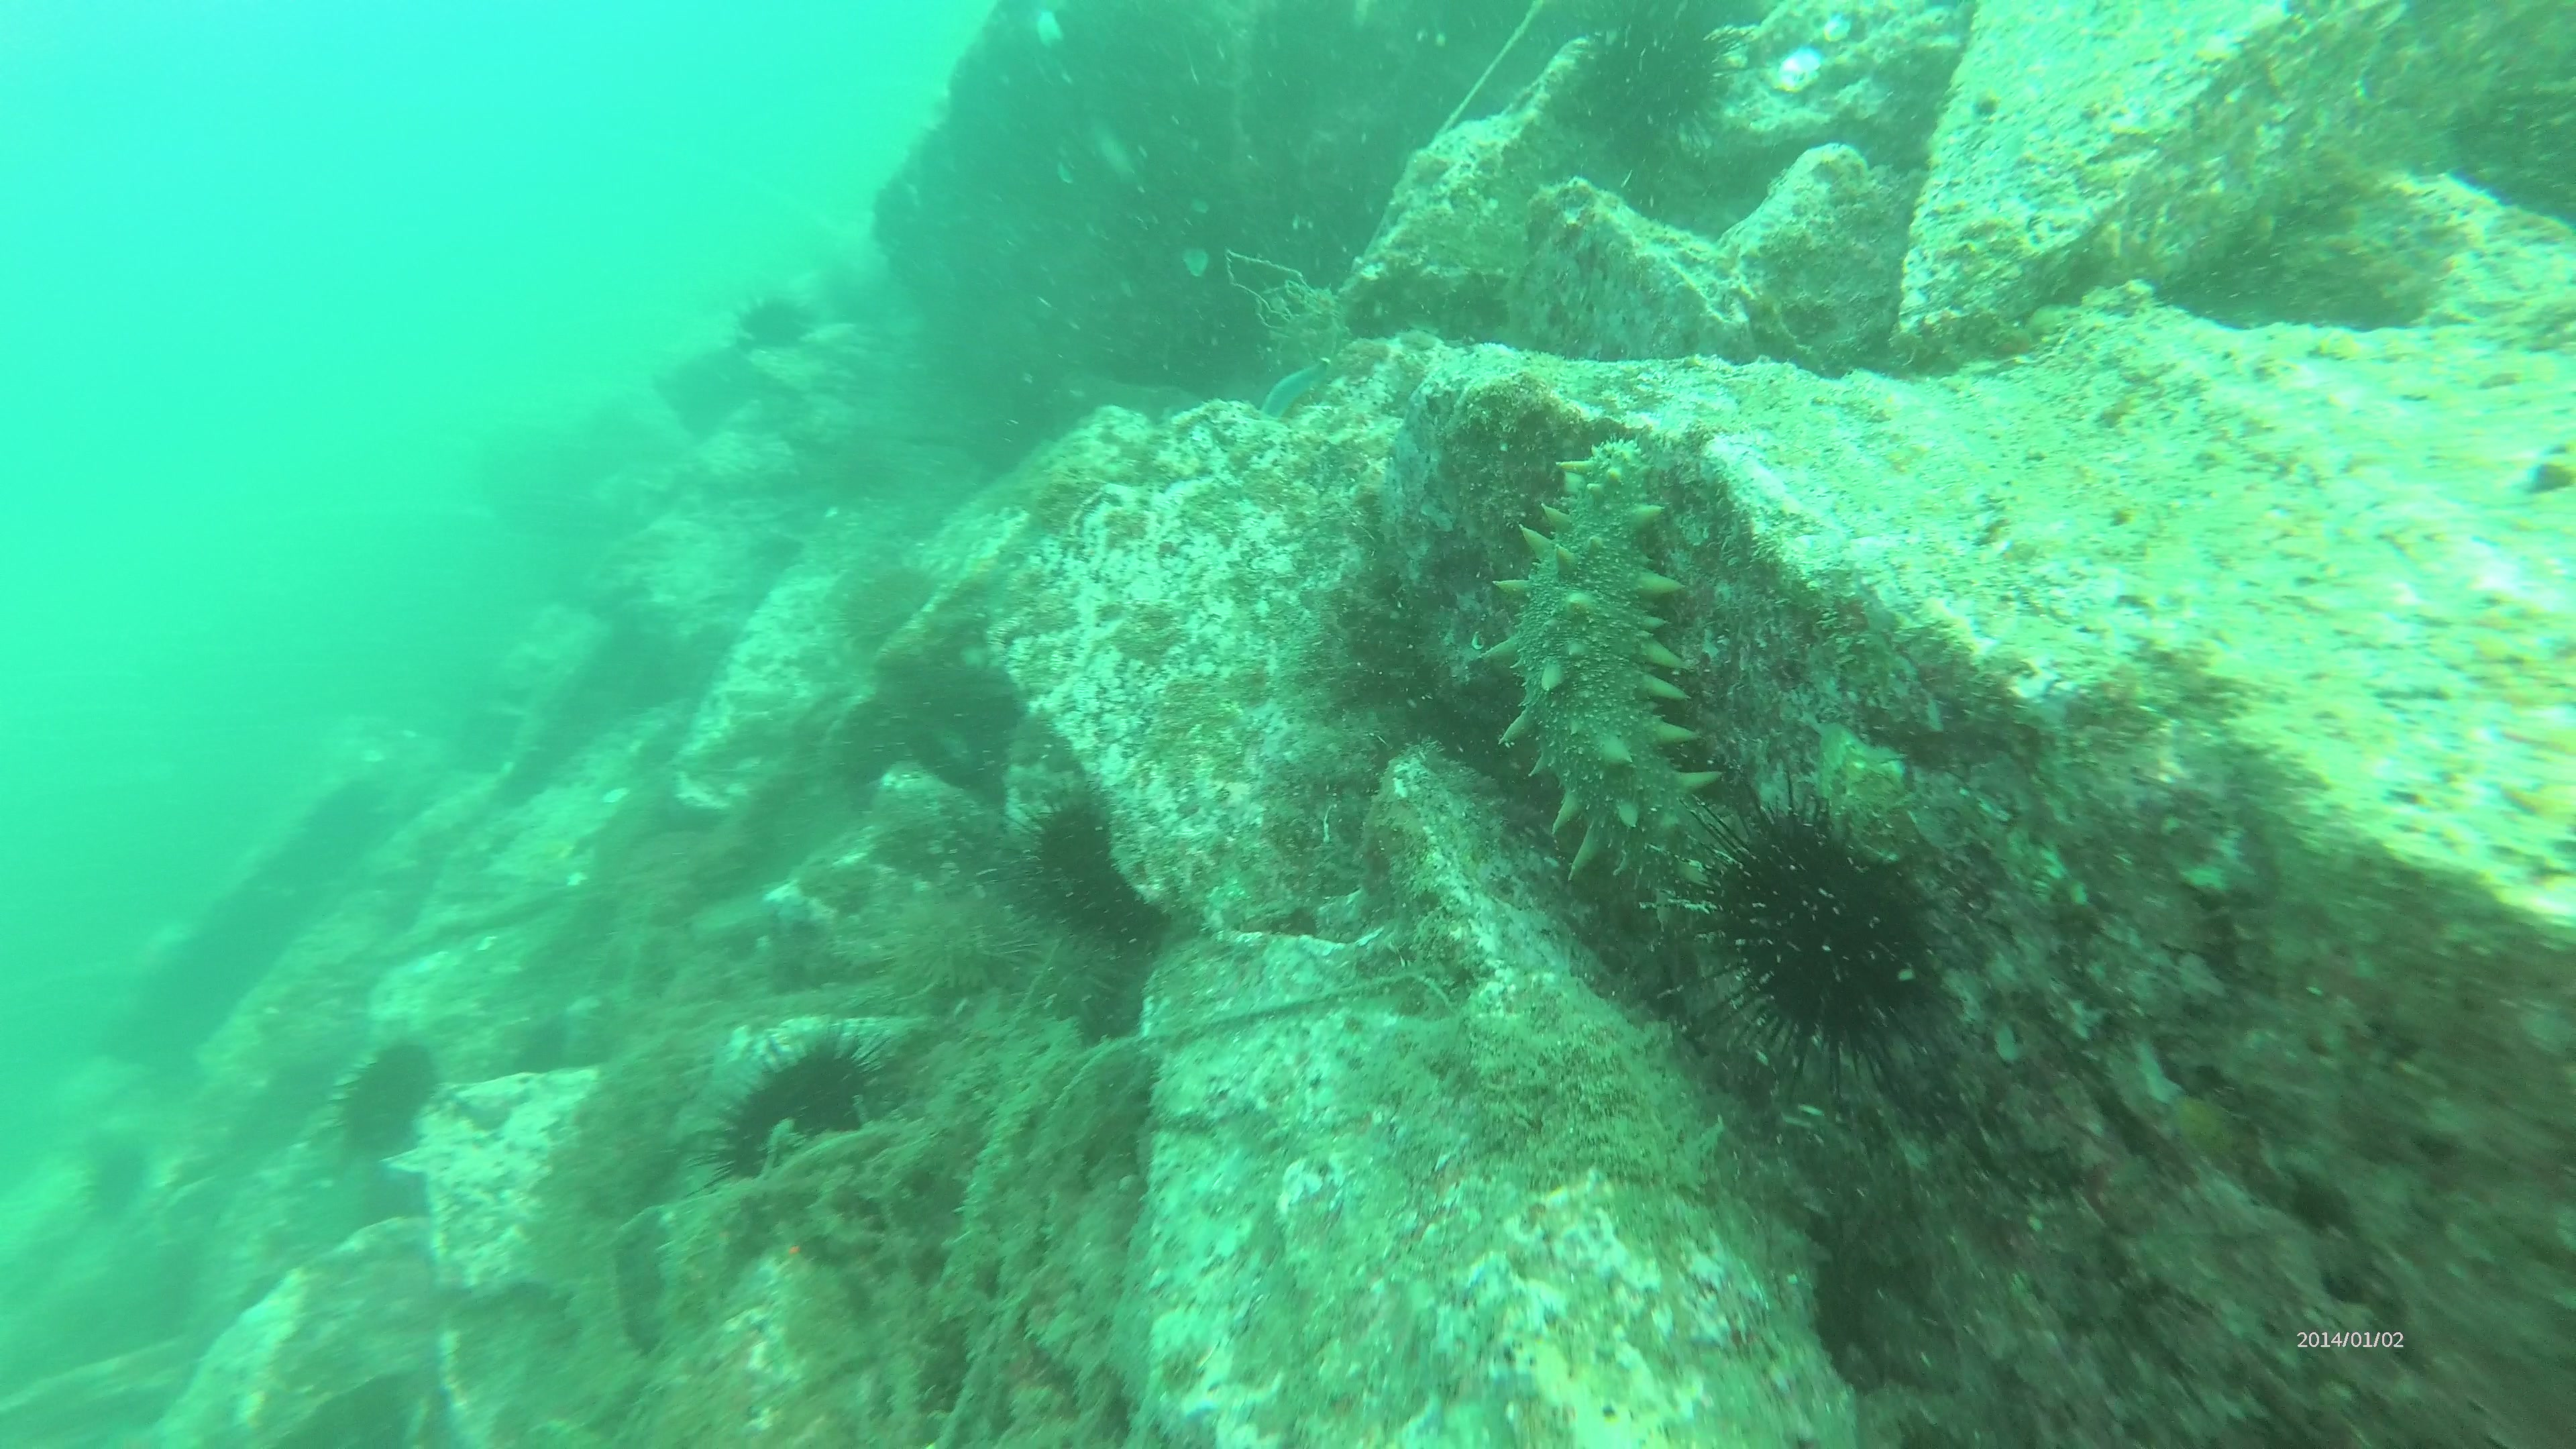echinus: (1718, 805, 1937, 1092), (1552, 9, 1746, 202), (679, 1044, 913, 1189), (1008, 787, 1191, 957), (847, 865, 1033, 1019), (1012, 909, 1132, 1039), (327, 1042, 442, 1155), (740, 285, 828, 356)
holothurian: (1465, 432, 1732, 943)
